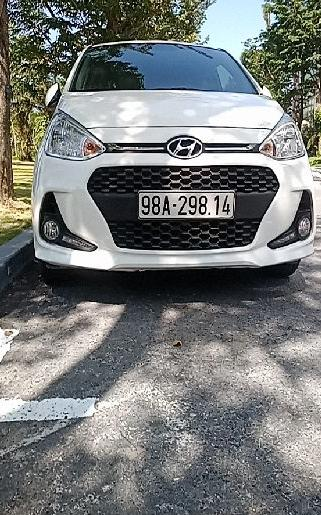Plate-iWeP: (136, 191, 236, 221)
